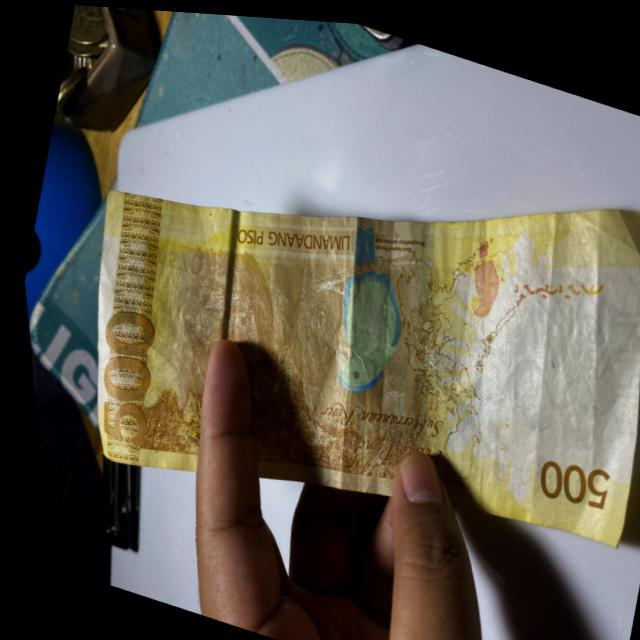500_big_parrot: (303, 213, 427, 403)
500_parrot_watermark: (451, 225, 512, 318)
value_watermark: (567, 309, 613, 378)
